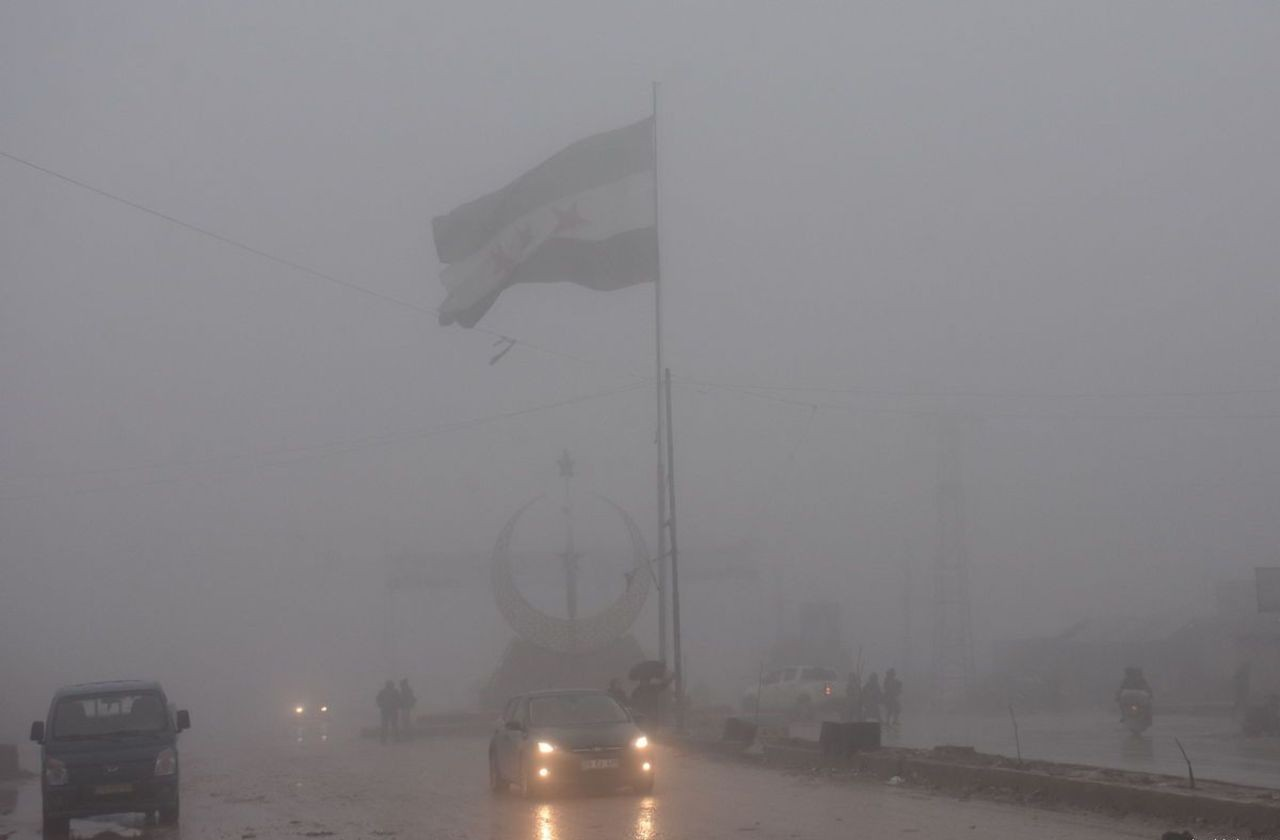car: (30, 679, 192, 820), (488, 691, 657, 798), (746, 664, 857, 710), (285, 691, 330, 722)
motorcycle: (1124, 692, 1148, 733)
person: (1119, 666, 1152, 715), (395, 677, 418, 743), (375, 680, 398, 742), (884, 667, 905, 733), (862, 672, 879, 733), (840, 671, 858, 724)
